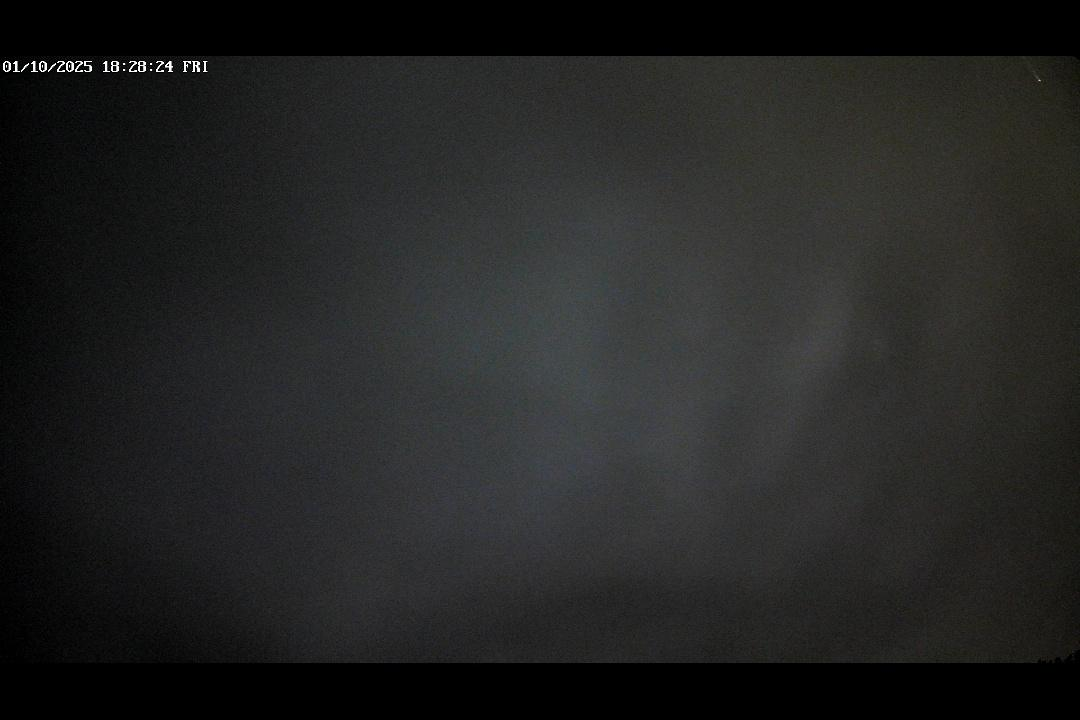Plane: (1019, 57, 1047, 86)
